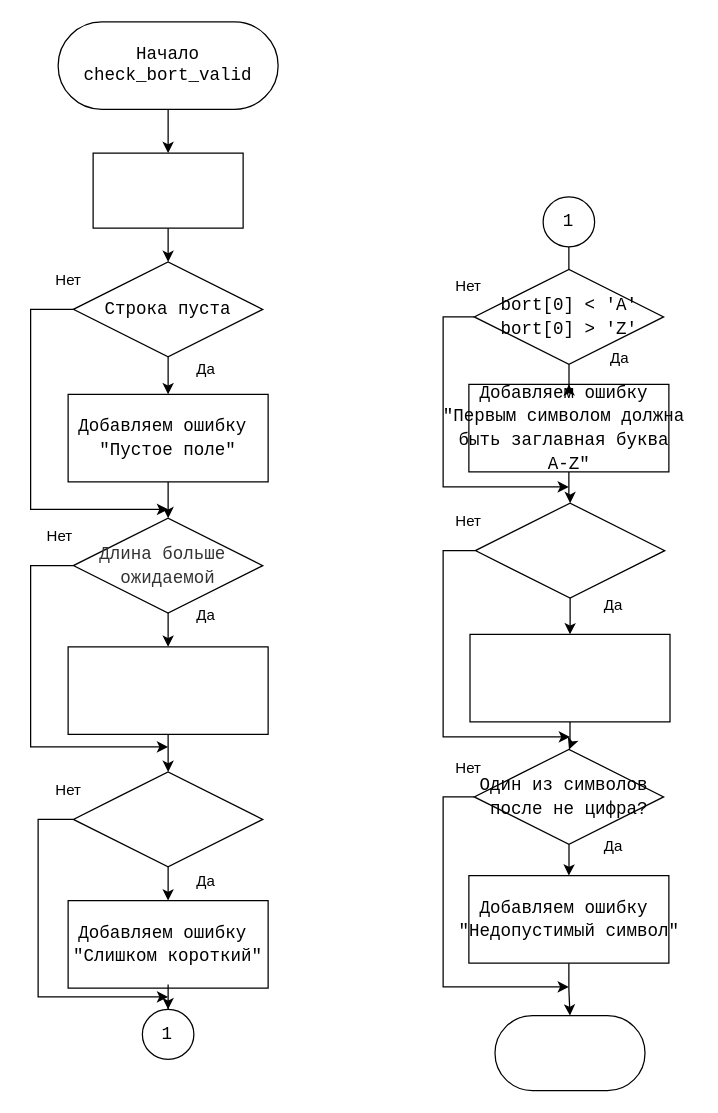
The diagram is 718 pixels wide and 1113 high, and some of its shapes have lost their labels. Here are the shapes that lost their labels. From the top down, the centre of each, then its label:
[167,190]: Инициализация переменной
[569,550]: bort[1] != '-'
[167,690]: Добавляем ошибку "Слишком длинный "
[569,677]: Добавляем ошибку " Вторым символом должен быть '-'"
[167,819]: Длина меньше ожидаемой
[569,1052]: конец
